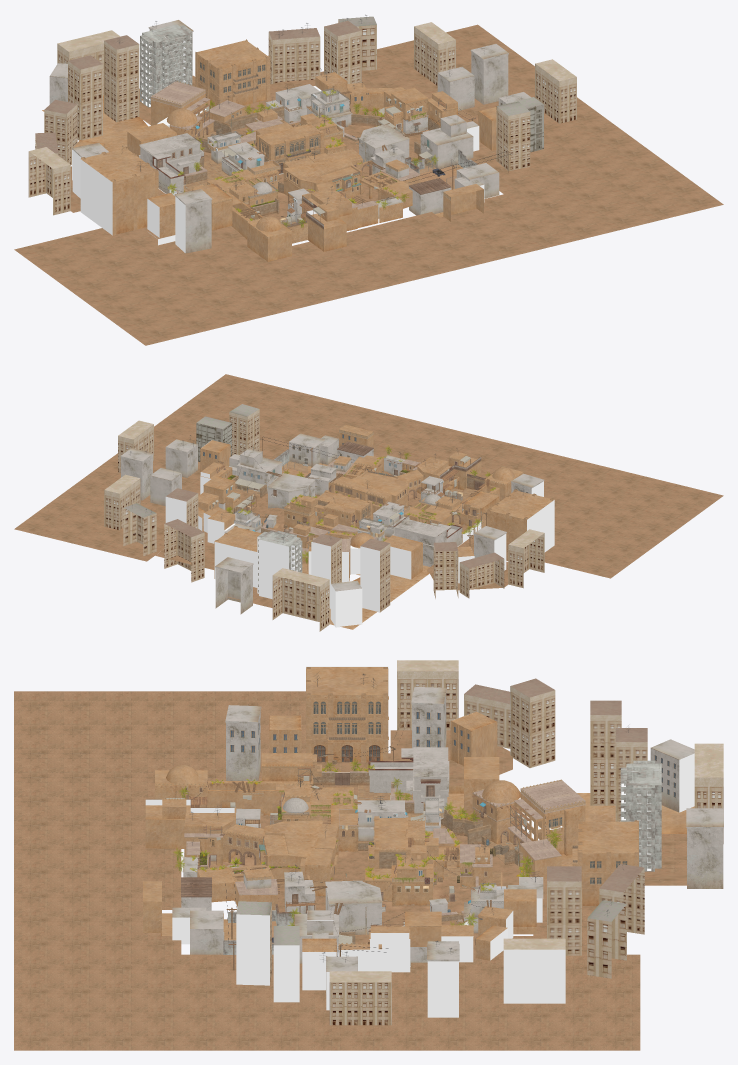
Rendered from sendstone_new(1).glb.
The picture shows the model from 3 angles, top to bottom: view 1: azimuth 30°, elevation 25°; view 2: azimuth 150°, elevation 25°; view 3: azimuth 270°, elevation 25°; orthographic projection. The views are drawn at different scales.
Visible parts, largest first — view 1: Sandstone_one_3, Sandstone_two_4, LightMap_Mesh_1, Cutout_2sided_0, Sandstone_Decals_2; view 2: Sandstone_one_3, Sandstone_two_4, LightMap_Mesh_1, Cutout_2sided_0, Sandstone_Decals_2; view 3: Sandstone_one_3, Sandstone_two_4, LightMap_Mesh_1, Cutout_2sided_0, Sandstone_Decals_2.
Boxes of the visible parts, x1=… form: Sandstone_one_3: x1=14, y1=20, x2=723, y2=345; Sandstone_two_4: x1=28, y1=16, x2=576, y2=231; LightMap_Mesh_1: x1=72, y1=36, x2=484, y2=252; Cutout_2sided_0: x1=152, y1=81, x2=461, y2=231; Sandstone_Decals_2: x1=119, y1=15, x2=456, y2=218; Sandstone_one_3: x1=14, y1=374, x2=723, y2=629; Sandstone_two_4: x1=104, y1=404, x2=544, y2=631; LightMap_Mesh_1: x1=165, y1=440, x2=554, y2=627; Cutout_2sided_0: x1=204, y1=445, x2=505, y2=563; Sandstone_Decals_2: x1=130, y1=435, x2=523, y2=548; Sandstone_one_3: x1=14, y1=667, x2=723, y2=1050; Sandstone_two_4: x1=146, y1=660, x2=723, y2=1025; LightMap_Mesh_1: x1=145, y1=666, x2=694, y2=1017; Cutout_2sided_0: x1=155, y1=752, x2=583, y2=944; Sandstone_Decals_2: x1=184, y1=674, x2=628, y2=962.
Bounding box in the file's own units: 1.86 × 0.2726 × 1.55.
Materials: 9 (8 with a texture image).
